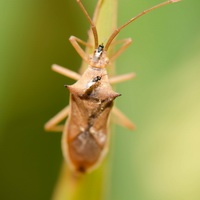insect: (107, 0, 199, 199), (117, 0, 166, 26)
